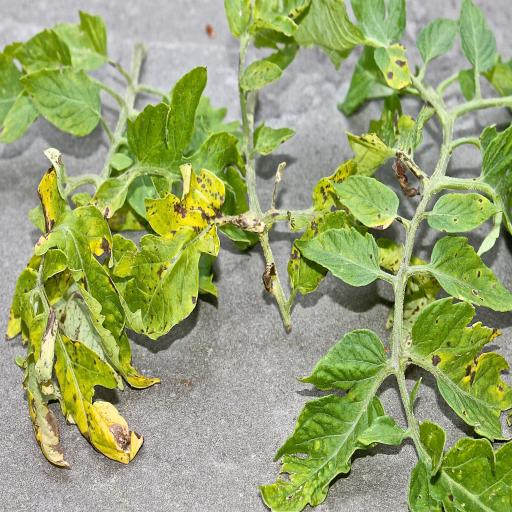disease_tomato: (256, 322, 394, 512), (32, 204, 162, 392), (124, 166, 226, 344), (406, 293, 512, 443), (53, 331, 145, 462), (429, 232, 512, 318), (290, 224, 384, 292), (328, 170, 400, 233), (428, 188, 498, 236)
